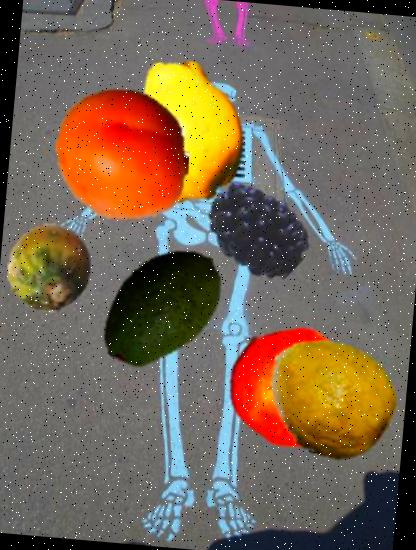Apricot: (50, 81, 196, 227)
Avocado: (84, 230, 238, 384)
Cactus: (2, 219, 100, 318)
Clementine: (221, 316, 360, 455)
Guava: (256, 326, 402, 471)
Mulberry: (198, 170, 316, 290)
Quince: (102, 53, 260, 211)
